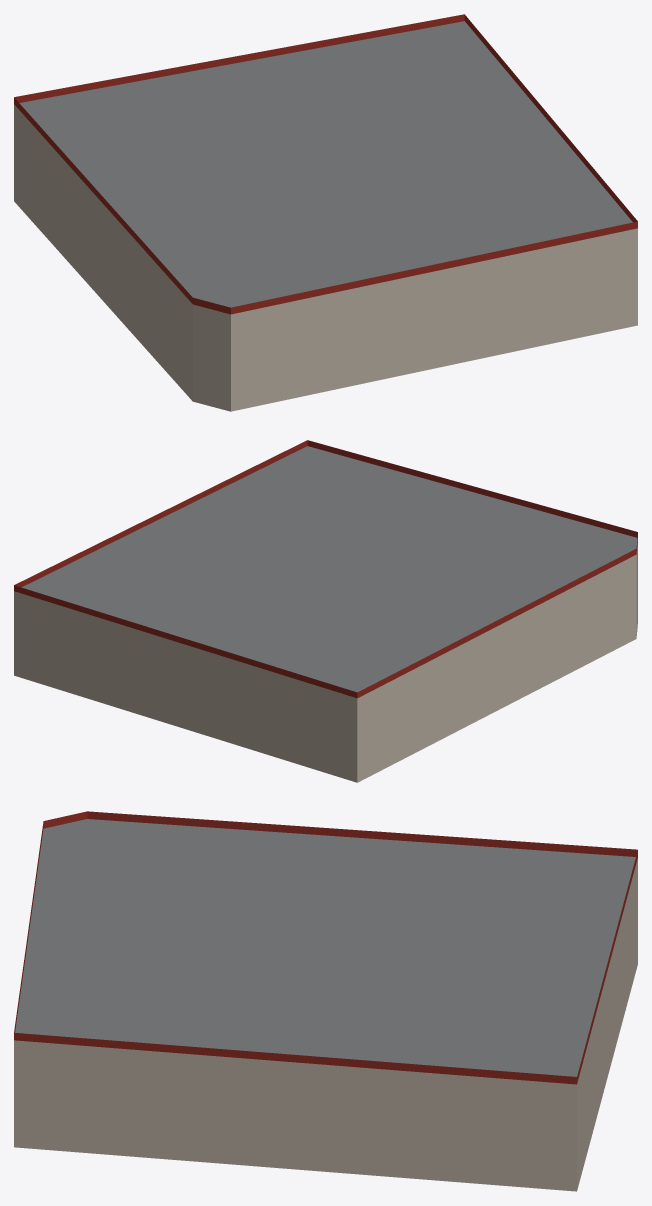
File: ciputra-seraya-mall-lod2.glb
3 renders of one model, top to bottom at view 1: azimuth 30°, elevation 25°; view 2: azimuth 150°, elevation 25°; view 3: azimuth 270°, elevation 25°, orthographic. The views are drawn at different scales.
Parts seen in each view (by area): view 1: ciputra-seraya-mall_LOD2; view 2: ciputra-seraya-mall_LOD2; view 3: ciputra-seraya-mall_LOD2.
Part boxes in pixels (x1,y1,x2,y2): ciputra-seraya-mall_LOD2: [14, 14, 637, 411]; ciputra-seraya-mall_LOD2: [14, 440, 637, 782]; ciputra-seraya-mall_LOD2: [14, 811, 637, 1191].
Size of the model in its own units: 97.9 by 19.7 by 97.2.
